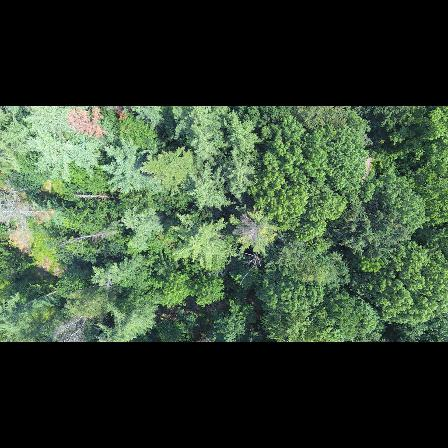Dead: (48, 312, 98, 342)
